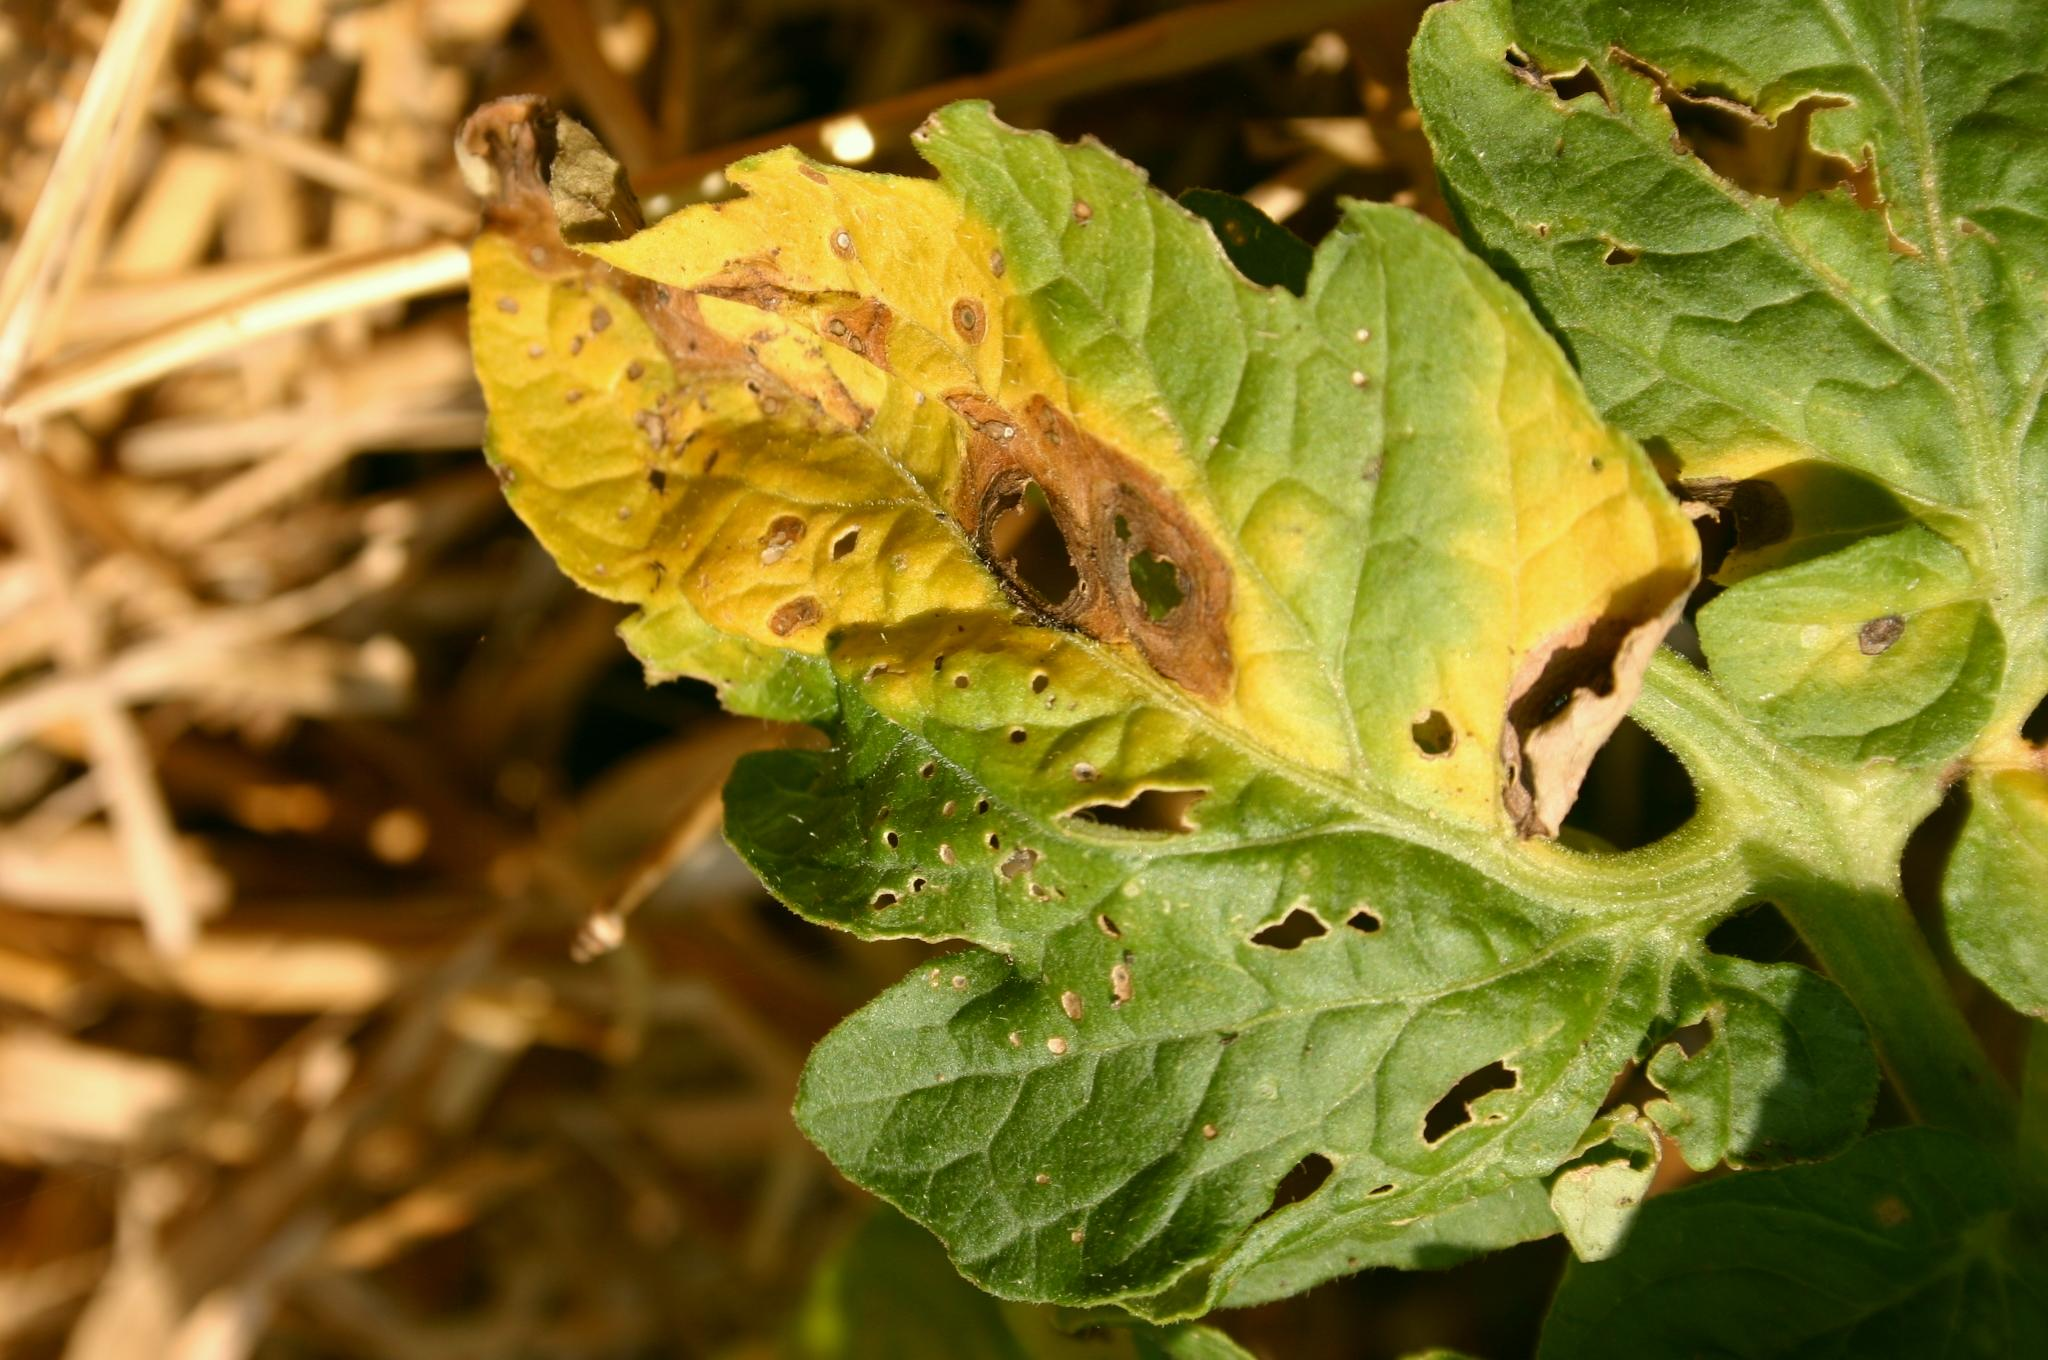Tomato Early blight leaf: (392, 110, 1589, 1171)
